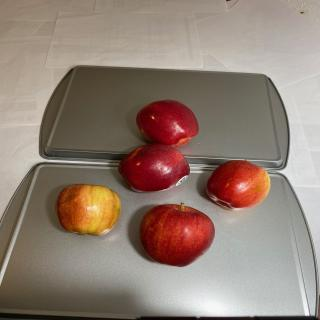Apple: (139, 202, 215, 268), (118, 143, 190, 193), (56, 183, 121, 236), (206, 159, 271, 211), (136, 99, 199, 149)
